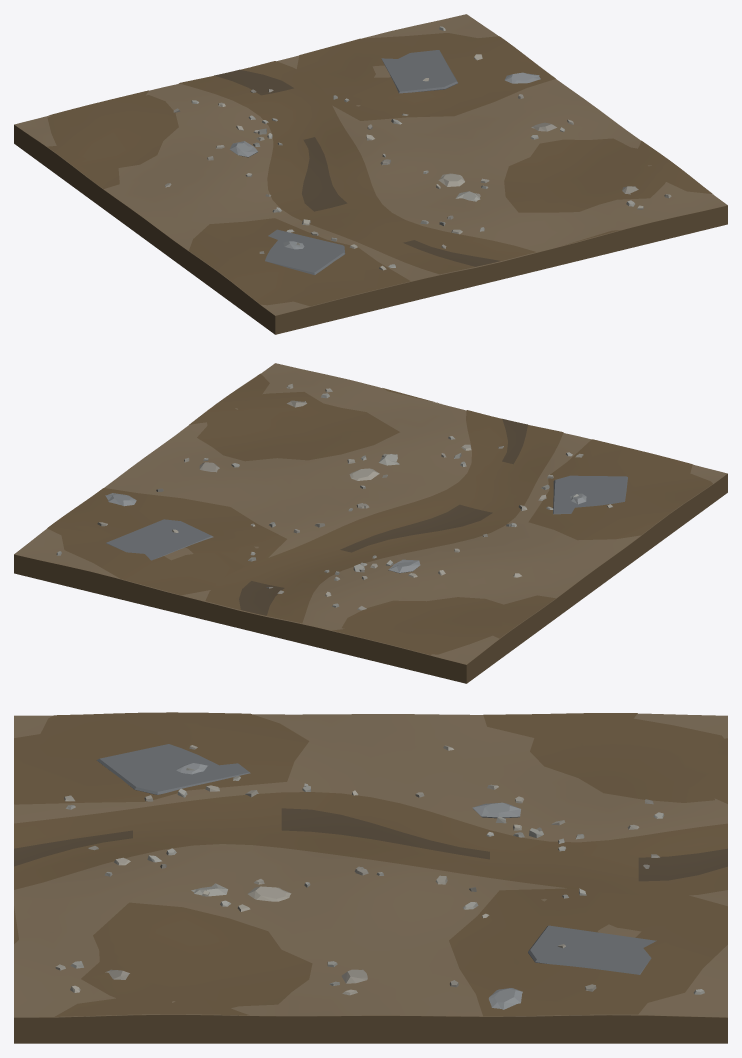
The model's file is SM_LPD_Floor_PavingDirt_01.fbx.
3 views of the same model, one above another, from view 1: azimuth 30°, elevation 25°; view 2: azimuth 150°, elevation 25°; view 3: azimuth 270°, elevation 25° (orthographic). The views are drawn at different scales.
Parts seen in each view (by area): view 1: SM_LPD_Floor_PavingDirt_01; view 2: SM_LPD_Floor_PavingDirt_01; view 3: SM_LPD_Floor_PavingDirt_01.
Part boxes in pixels (x1,y1,x2,y2): SM_LPD_Floor_PavingDirt_01: (14,14,727,334); SM_LPD_Floor_PavingDirt_01: (14,363,727,683); SM_LPD_Floor_PavingDirt_01: (14,712,727,1043).
Bounding box in the file's own units: 4 × 0.2 × 4.
